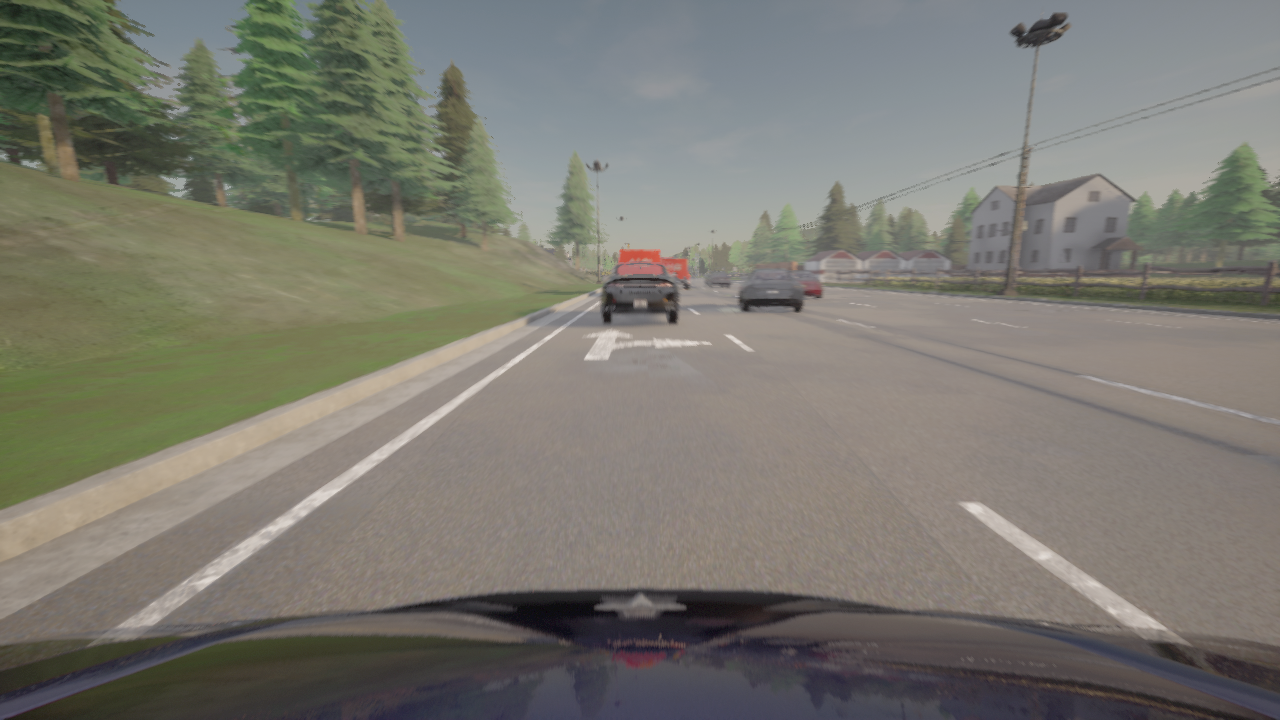cyclist: (0, 588, 1279, 719), (601, 262, 678, 323), (739, 269, 802, 311), (788, 270, 821, 298), (661, 258, 690, 288), (619, 249, 660, 262), (703, 271, 730, 287)
